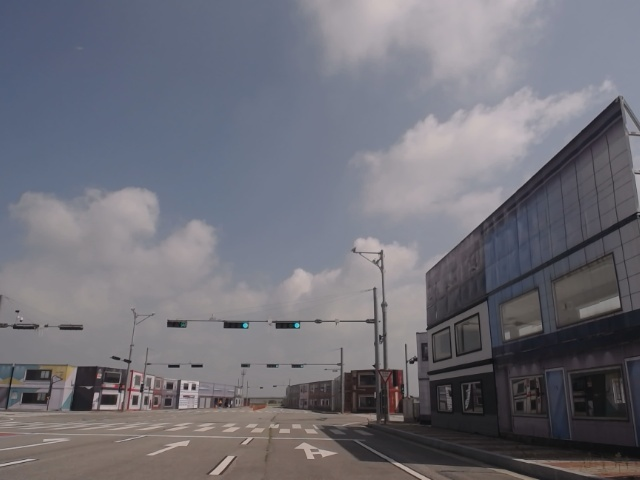straight_green_4: (223, 319, 250, 329), (274, 321, 301, 329)
